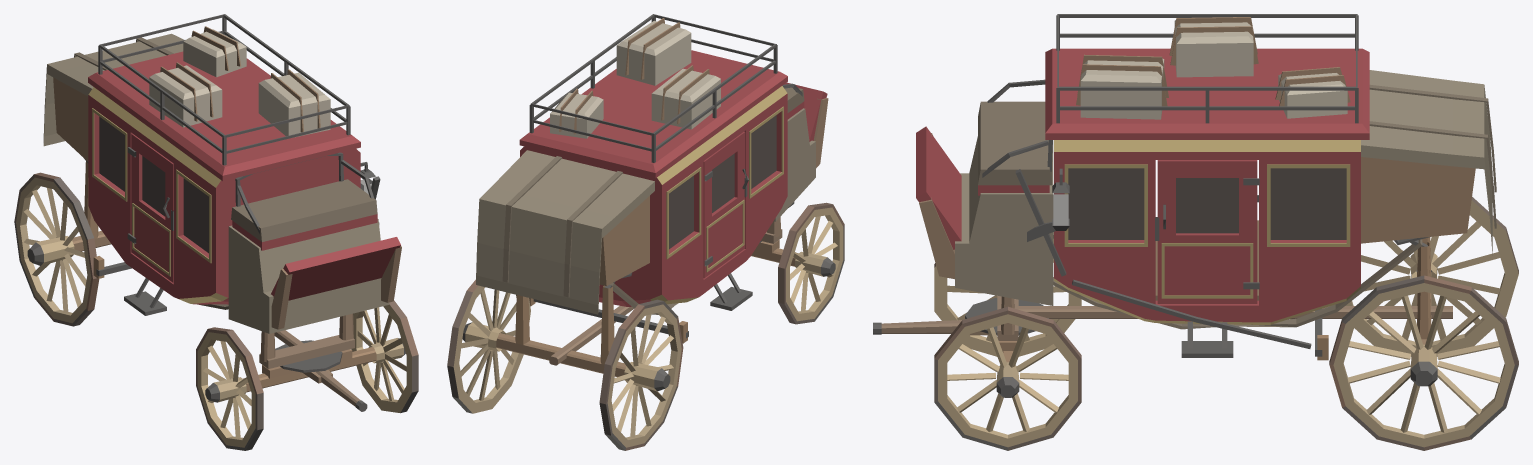
File: stall_0.glb
The picture shows the model from 3 angles, left to right: view 1: azimuth 30°, elevation 25°; view 2: azimuth 150°, elevation 25°; view 3: azimuth 270°, elevation 25°; orthographic projection. The views are drawn at different scales.
Visible parts, largest first — view 1: stall_0; view 2: stall_0; view 3: stall_0.
Part boxes in pixels (x1,y1,x2,y2): stall_0: (14,14,418,450); stall_0: (447,14,844,450); stall_0: (873,14,1518,450).
Bounding box in the file's own units: 2.2 × 3.07 × 4.95.
